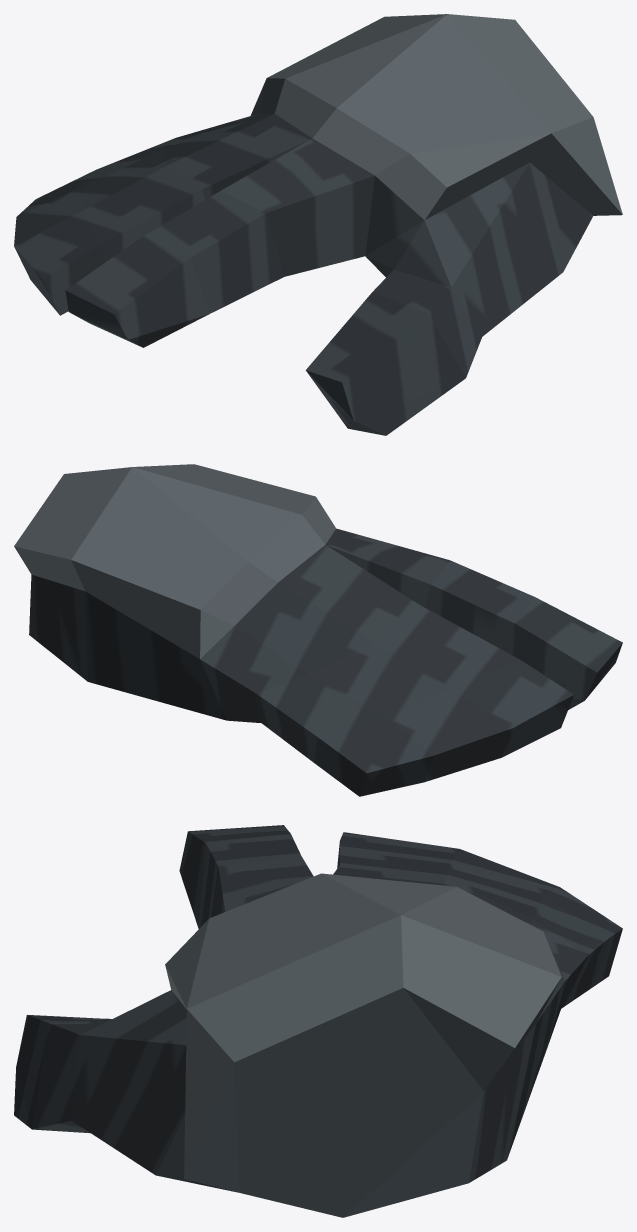
File: Chr_HandRight_Female_05_Static.fbx
The picture shows the model from 3 angles, top to bottom: view 1: azimuth 30°, elevation 25°; view 2: azimuth 150°, elevation 25°; view 3: azimuth 270°, elevation 25°; orthographic projection. The views are drawn at different scales.
Parts seen in each view (by area): view 1: Chr_HandRight_Female_05_Static; view 2: Chr_HandRight_Female_05_Static; view 3: Chr_HandRight_Female_05_Static.
Part boxes in pixels (box(x1,y1,x2,y2)): Chr_HandRight_Female_05_Static: box(14, 14, 622, 435); Chr_HandRight_Female_05_Static: box(14, 464, 622, 796); Chr_HandRight_Female_05_Static: box(14, 825, 622, 1217).
Size of the model in its own units: 0.2371 by 0.1202 by 0.188.
